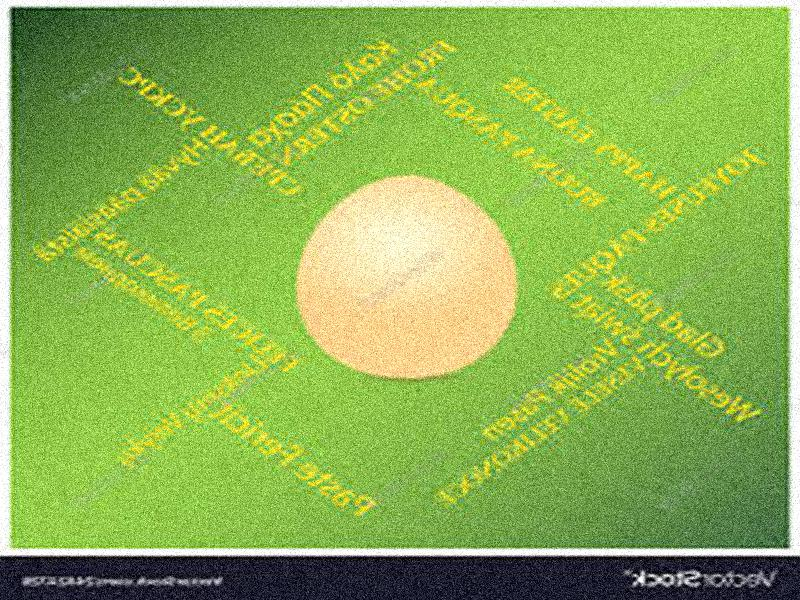Eggs: (295, 180, 514, 376)
